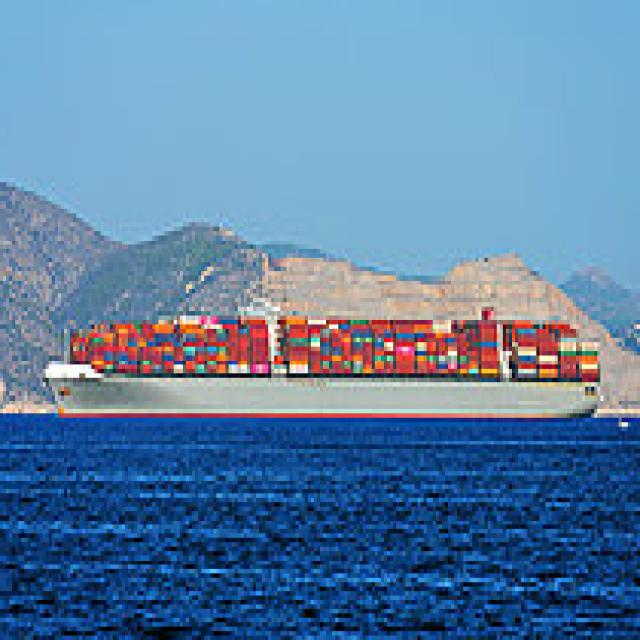Cargo: (46, 294, 610, 414)
